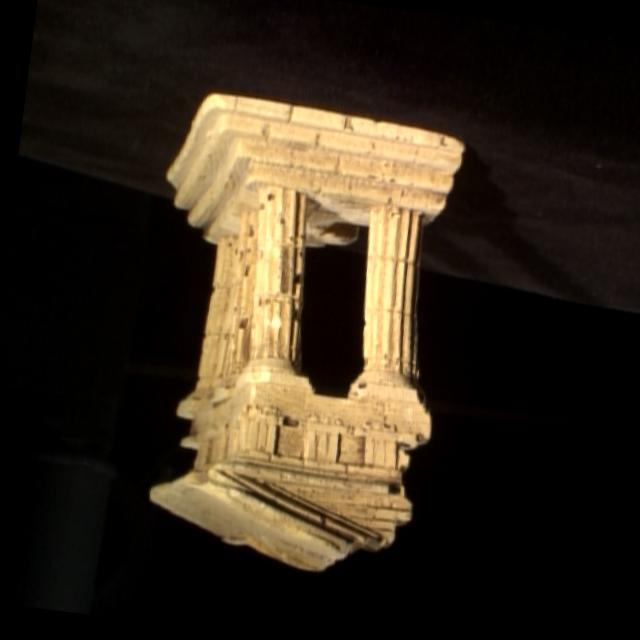Instance-Segmentation: (149, 93, 462, 568)
